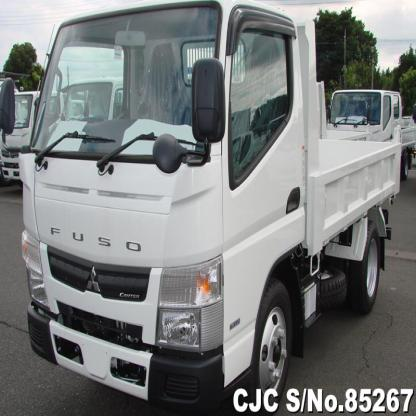truck: (1, 1, 400, 414)
